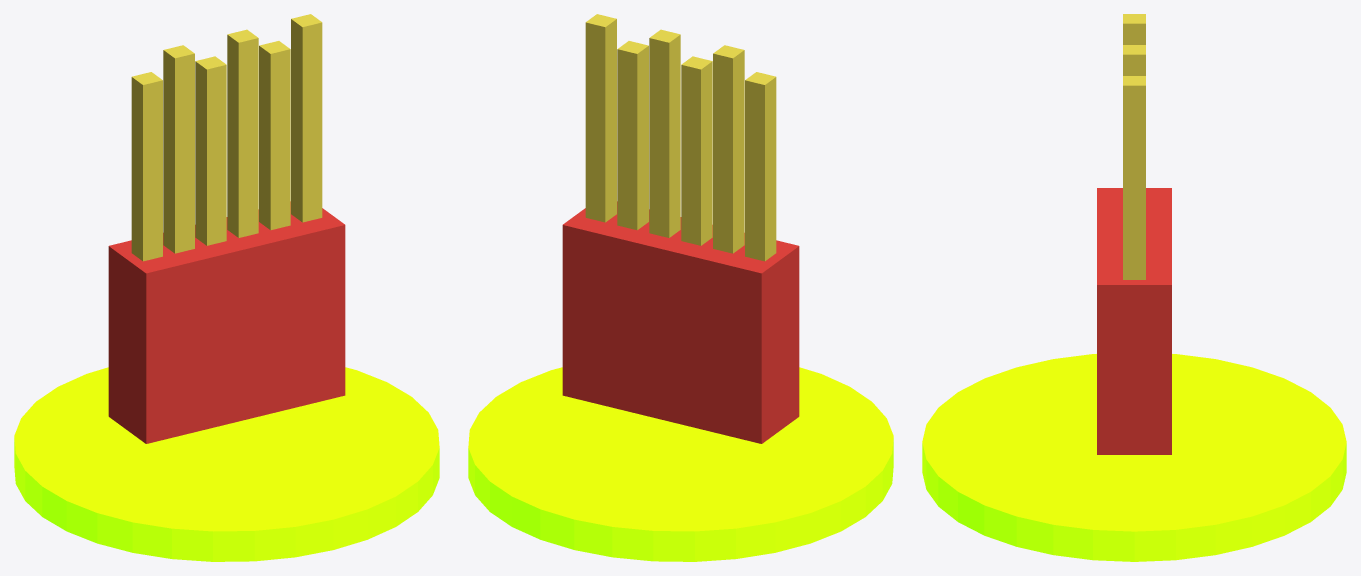
File: food_french_fries.glb
3 renders of one model, left to right at view 1: azimuth 30°, elevation 25°; view 2: azimuth 150°, elevation 25°; view 3: azimuth 270°, elevation 25°, orthographic.
Visible parts, largest first — view 1: 01_04_Popular_Food_French_Fries_ROOT_base, 01_04_Popular_Food_French_Fries_part_01, 01_04_Popular_Food_French_Fries_part_03, 01_04_Popular_Food_French_Fries_part_07, 01_04_Popular_Food_French_Fries_part_05, 01_04_Popular_Food_French_Fries_part_06, 01_04_Popular_Food_French_Fries_part_02, 01_04_Popular_Food_French_Fries_part_04; view 2: 01_04_Popular_Food_French_Fries_ROOT_base, 01_04_Popular_Food_French_Fries_part_01, 01_04_Popular_Food_French_Fries_part_03, 01_04_Popular_Food_French_Fries_part_07, 01_04_Popular_Food_French_Fries_part_05, 01_04_Popular_Food_French_Fries_part_06, 01_04_Popular_Food_French_Fries_part_02, 01_04_Popular_Food_French_Fries_part_04; view 3: 01_04_Popular_Food_French_Fries_ROOT_base, 01_04_Popular_Food_French_Fries_part_01, 01_04_Popular_Food_French_Fries_part_07, 01_04_Popular_Food_French_Fries_part_03, 01_04_Popular_Food_French_Fries_part_05.
Part boxes in pixels (bbox=[...]): 01_04_Popular_Food_French_Fries_ROOT_base: bbox=[14, 367, 439, 561]; 01_04_Popular_Food_French_Fries_part_01: bbox=[108, 201, 345, 443]; 01_04_Popular_Food_French_Fries_part_03: bbox=[163, 45, 194, 253]; 01_04_Popular_Food_French_Fries_part_07: bbox=[291, 14, 322, 222]; 01_04_Popular_Food_French_Fries_part_05: bbox=[227, 29, 258, 237]; 01_04_Popular_Food_French_Fries_part_06: bbox=[259, 41, 290, 230]; 01_04_Popular_Food_French_Fries_part_02: bbox=[131, 72, 162, 261]; 01_04_Popular_Food_French_Fries_part_04: bbox=[195, 56, 226, 245]; 01_04_Popular_Food_French_Fries_ROOT_base: bbox=[468, 367, 893, 561]; 01_04_Popular_Food_French_Fries_part_01: bbox=[562, 201, 799, 443]; 01_04_Popular_Food_French_Fries_part_03: bbox=[713, 45, 744, 253]; 01_04_Popular_Food_French_Fries_part_07: bbox=[585, 14, 616, 222]; 01_04_Popular_Food_French_Fries_part_05: bbox=[649, 29, 680, 237]; 01_04_Popular_Food_French_Fries_part_06: bbox=[617, 41, 648, 230]; 01_04_Popular_Food_French_Fries_part_02: bbox=[745, 72, 776, 261]; 01_04_Popular_Food_French_Fries_part_04: bbox=[681, 56, 712, 245]; 01_04_Popular_Food_French_Fries_ROOT_base: bbox=[922, 354, 1346, 561]; 01_04_Popular_Food_French_Fries_part_01: bbox=[1097, 188, 1171, 454]; 01_04_Popular_Food_French_Fries_part_07: bbox=[1123, 76, 1145, 279]; 01_04_Popular_Food_French_Fries_part_03: bbox=[1123, 14, 1145, 44]; 01_04_Popular_Food_French_Fries_part_05: bbox=[1123, 45, 1145, 75].
Size of the model in its own units: 0.76 by 0.85 by 0.76.
